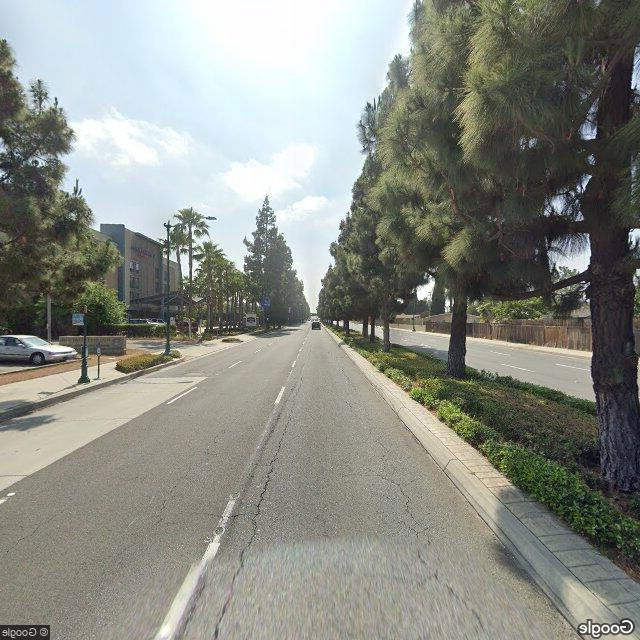pothole: (362, 437, 496, 635), (189, 417, 293, 639)
